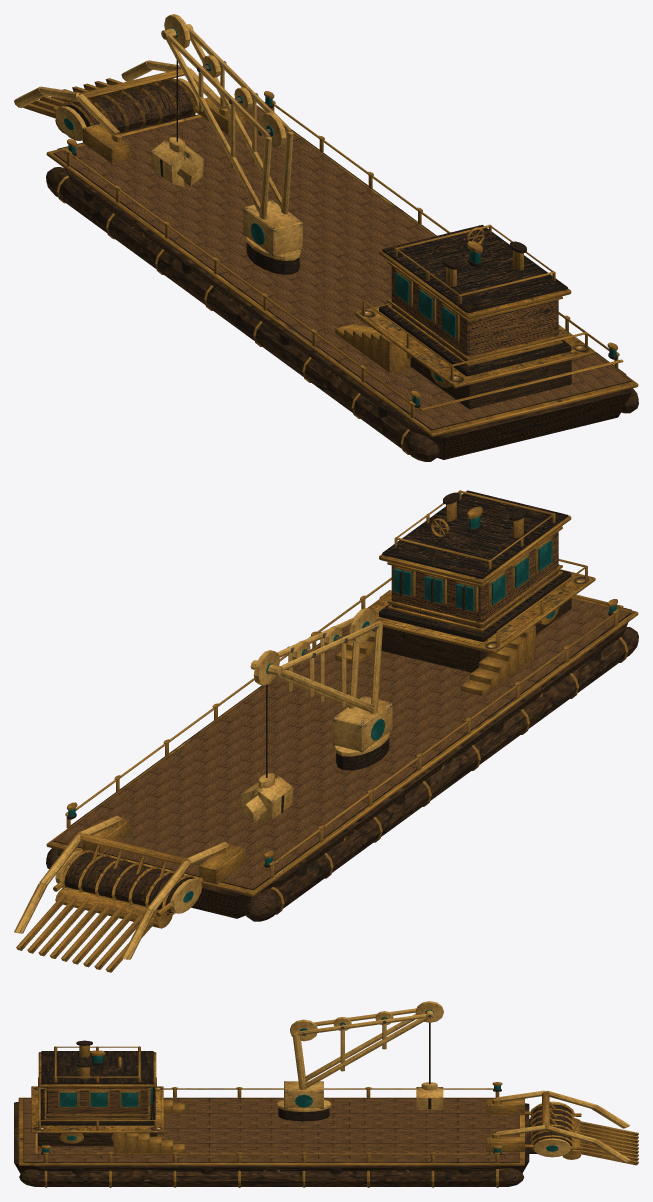
The model's file is claim-boat.glb.
3 renders of one model, top to bottom at view 1: azimuth 30°, elevation 25°; view 2: azimuth 150°, elevation 25°; view 3: azimuth 270°, elevation 25°, orthographic. The views are drawn at different scales.
Parts seen in each view (by area): view 1: ClaimBoat; view 2: ClaimBoat; view 3: ClaimBoat.
Part boxes in pixels (<box>): ClaimBoat: <box>14,14,638,461</box>; ClaimBoat: <box>14,490,638,972</box>; ClaimBoat: <box>14,1001,638,1187</box>.
Bounding box in the file's own units: 10.16 × 9.02 × 36.82.
Materials: 1 (1 with a texture image).
